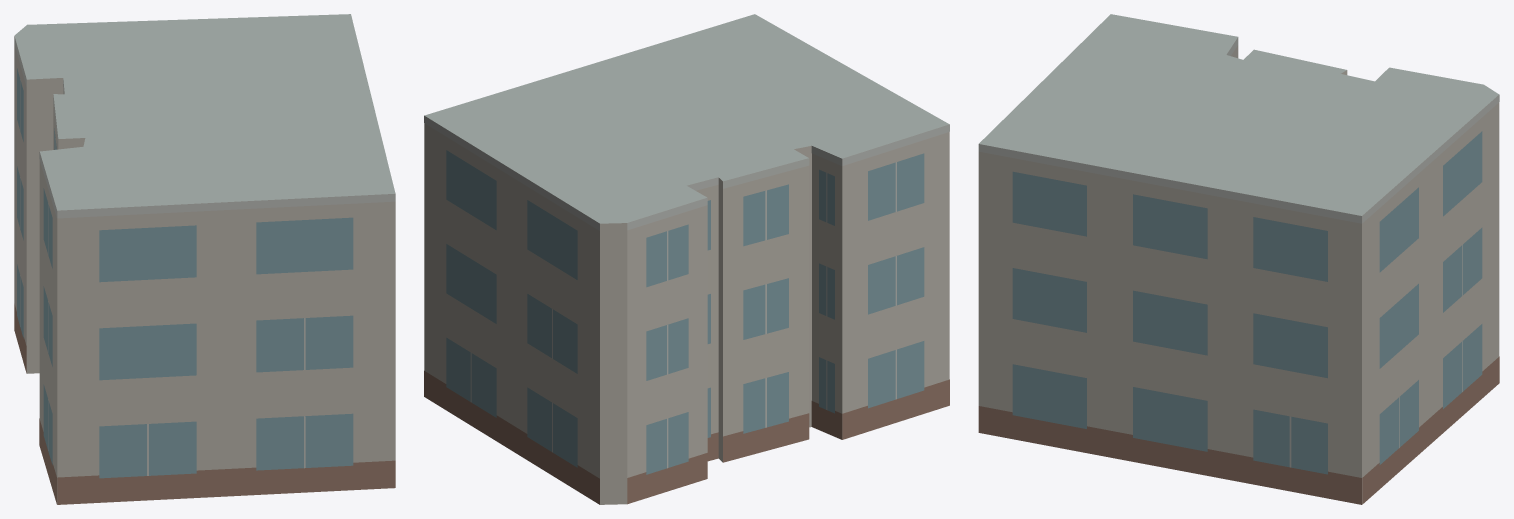
Rendered from survey-upis-32672095.glb.
3 views of the same model, side by side, from view 1: azimuth 30°, elevation 25°; view 2: azimuth 150°, elevation 25°; view 3: azimuth 270°, elevation 25° (orthographic). The views are drawn at different scales.
Visible parts, largest first — view 1: survey-upis-32672095.tmp; view 2: survey-upis-32672095.tmp; view 3: survey-upis-32672095.tmp.
Part boxes in pixels (x1=…): survey-upis-32672095.tmp: x1=14, y1=14, x2=395, y2=504; survey-upis-32672095.tmp: x1=424, y1=14, x2=949, y2=504; survey-upis-32672095.tmp: x1=978, y1=14, x2=1499, y2=504.
Size of the model in its own units: 13.74 by 9.15 by 14.96.
